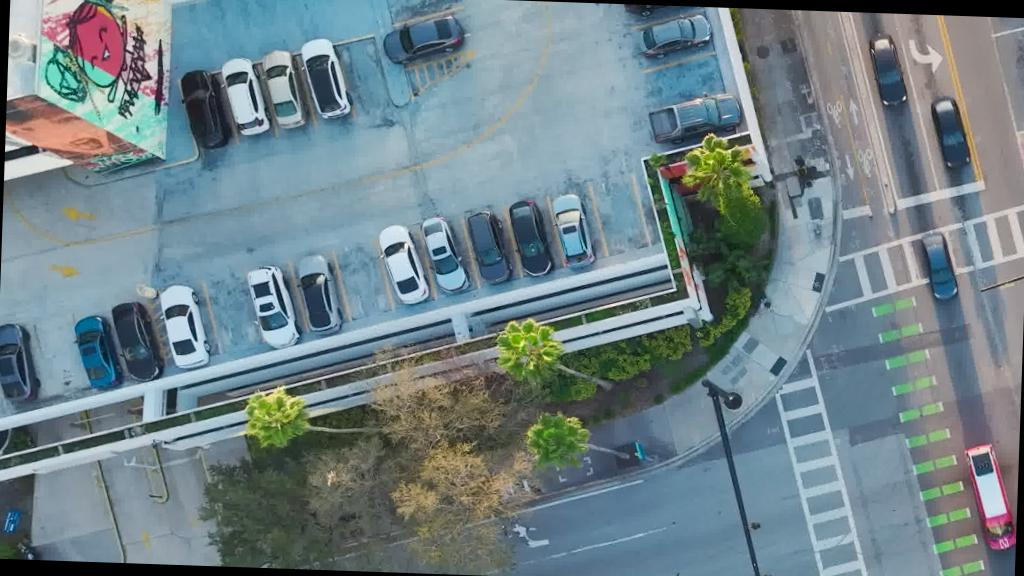cars: (959, 443, 1019, 552), (644, 90, 742, 148), (244, 264, 302, 350), (297, 37, 355, 120), (157, 283, 212, 370), (108, 302, 166, 382), (177, 68, 233, 150), (380, 12, 463, 67), (376, 224, 432, 304), (418, 216, 472, 294), (294, 254, 344, 338), (220, 56, 272, 136), (70, 315, 123, 392), (260, 48, 308, 130), (635, 12, 713, 62), (506, 198, 554, 278), (464, 209, 515, 284), (548, 193, 598, 269), (0, 323, 42, 406), (926, 96, 972, 171), (866, 33, 910, 107), (919, 232, 959, 301), (622, 4, 674, 18)
